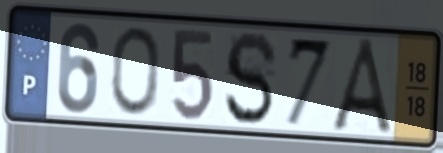5: (167, 27, 218, 124)
6: (54, 18, 102, 116)
7: (282, 34, 335, 128)
A: (327, 35, 399, 139)
O: (109, 23, 161, 119)
S: (222, 28, 280, 129)
